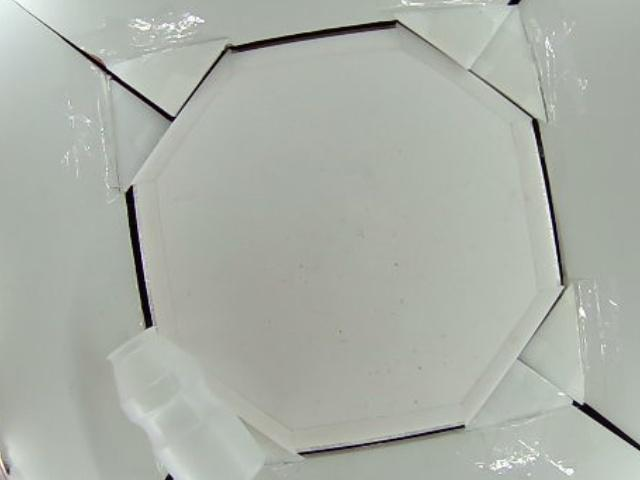Bottle: (104, 327, 268, 480)
